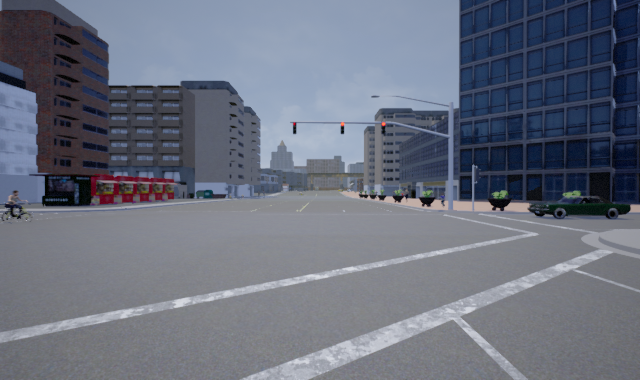bike: (1, 191, 35, 224)
vehicle: (525, 195, 632, 219)
